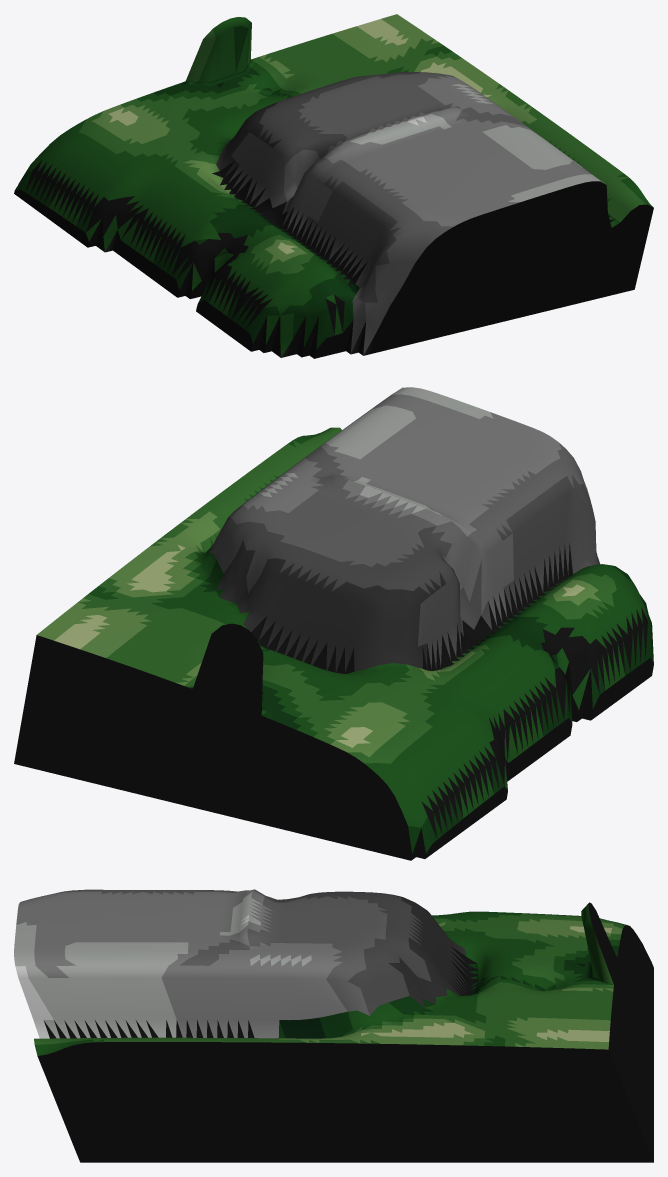
File: green_shell_191.glb
The picture shows the model from 3 angles, top to bottom: view 1: azimuth 30°, elevation 25°; view 2: azimuth 150°, elevation 25°; view 3: azimuth 270°, elevation 25°; orthographic projection. The views are drawn at different scales.
Parts seen in each view (by area): view 1: green_shell_191; view 2: green_shell_191; view 3: green_shell_191.
Part boxes in pixels (<box>): green_shell_191: <box>14,14,653,358</box>; green_shell_191: <box>14,387,653,860</box>; green_shell_191: <box>14,889,653,1162</box>.
Bounding box in the file's own units: 23 × 9.16 × 31.23.
